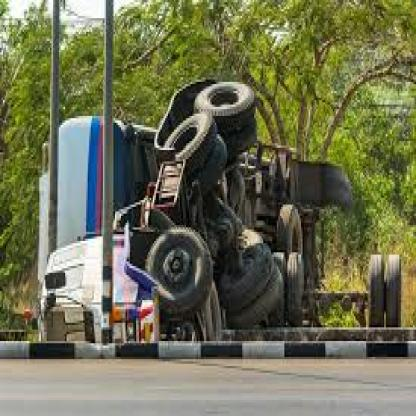accident: (23, 84, 404, 358)
